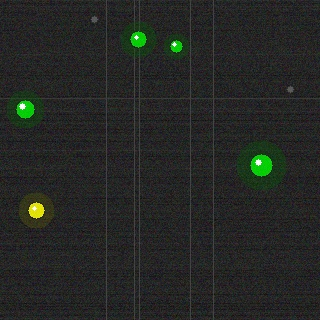green_normal: (248, 152, 274, 178), (14, 98, 36, 120), (128, 29, 148, 49), (168, 38, 184, 54)
yellow_warning: (26, 200, 46, 220)
